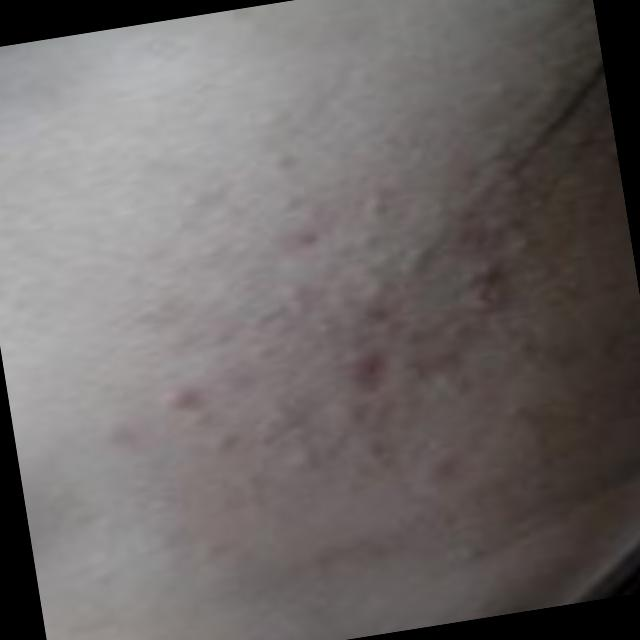fungal: (49, 102, 570, 590)
